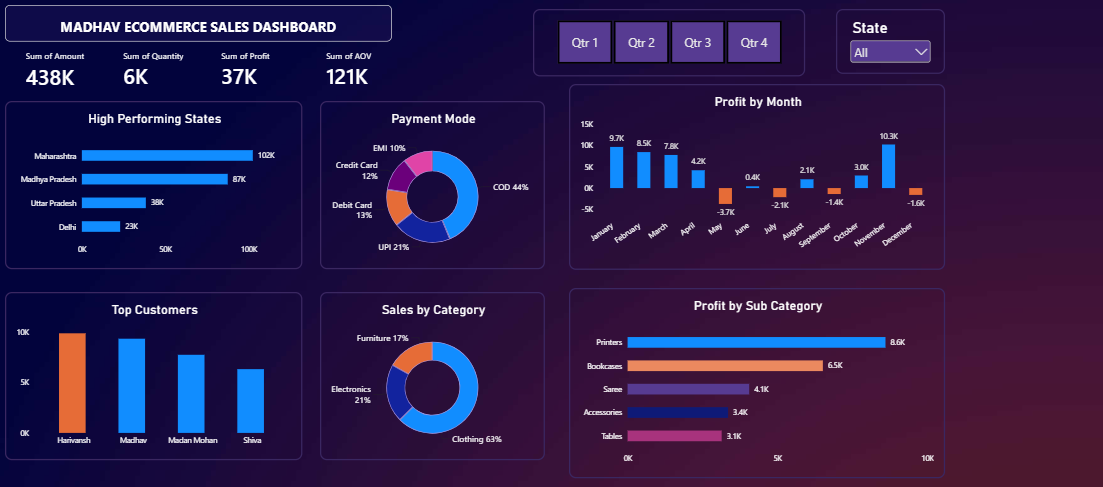

The page's visual inventory and layout, read from the dashboard file:
{"tool":"powerbi","page":{"name":"Page 1","canvas":[1920,1080],"ordinal":0},"visuals":[{"type":"textbox","box":[9.4,10.9,614.1,57.8],"z":0},{"type":"columnChart","title":" Profit by Month","fields":{"Category":["Orders.Order Date.Variation.Date Hierarchy.Month"],"Y":["Sum(Details.Profit)"]},"box":[904.7,135.9,596.9,295.3],"z":1000},{"type":"clusteredBarChart","title":"Profit by Sub Category","fields":{"Category":["Details.Sub-Category"],"Y":["Sum(Details.Profit)"]},"box":[905,460,596.7,301.7],"z":2000},{"type":"donutChart","title":"Sales by Category","fields":{"Category":["Details.Category"],"Y":["Sum(Details.Quantity)"]},"box":[510,466.7,356.7,266.7],"z":3000},{"type":"donutChart","title":" Payment  Mode ","fields":{"Category":["Details.PaymentMode"],"Y":["Sum(Details.Quantity)"]},"box":[510,163.3,356.9,266.7],"z":4000},{"type":"cardVisual","fields":{"Data":["Sum(Details.Amount)"]},"box":[9.7,68.1,166.7,94.4],"z":5000},{"type":"cardVisual","fields":{"Data":["Sum(Details.Quantity)"]},"box":[165.3,68.1,168.1,94.4],"z":5001},{"type":"cardVisual","fields":{"Data":["Sum(Details.Profit)"]},"box":[320.8,68.1,152.8,94.4],"z":5002},{"type":"cardVisual","fields":{"Data":["Sum(Details.AOV)"]},"box":[486.7,68.3,153.3,95],"z":5003},{"type":"barChart","title":"High Performing States","fields":{"Category":["Orders.State"],"Y":["Sum(Details.Amount)"]},"box":[10,163.3,471.7,266.7],"z":5004},{"type":"columnChart","title":"Top Customers","fields":{"Category":["Orders.CustomerName"],"Y":["Sum(Details.Amount)"]},"box":[10,466.7,471.7,266.7],"z":5005},{"type":"slicer","fields":{"Values":["Orders.Order Date.Variation.Date Hierarchy.Quarter"]},"box":[847.6,17.5,431.7,106.7],"z":5006},{"type":"slicer","fields":{"Values":["Orders.State"]},"box":[1328.6,17.5,173.3,103.3],"z":5007}]}

Visuals, with their boxes on the page's 1920x1080 design canvas (x1, y1, x2, y2). These are canvas units, not pixel positions in the 1103x487 screenshot, which may show the page scaled, cropped or inside an application window:
textbox: x1=9, y1=11, x2=624, y2=69
" Profit by Month" columnChart: x1=905, y1=136, x2=1502, y2=431
"Profit by Sub Category" clusteredBarChart: x1=905, y1=460, x2=1502, y2=762
"Sales by Category" donutChart: x1=510, y1=467, x2=867, y2=733
" Payment  Mode " donutChart: x1=510, y1=163, x2=867, y2=430
cardVisual - Sum(Details.Amount): x1=10, y1=68, x2=176, y2=162
cardVisual - Sum(Details.Quantity): x1=165, y1=68, x2=333, y2=162
cardVisual - Sum(Details.Profit): x1=321, y1=68, x2=474, y2=162
cardVisual - Sum(Details.AOV): x1=487, y1=68, x2=640, y2=163
"High Performing States" barChart: x1=10, y1=163, x2=482, y2=430
"Top Customers" columnChart: x1=10, y1=467, x2=482, y2=733
slicer - Orders.Order Date.Variation.Date Hierarchy.Quarter: x1=848, y1=18, x2=1279, y2=124
slicer - Orders.State: x1=1329, y1=18, x2=1502, y2=121
